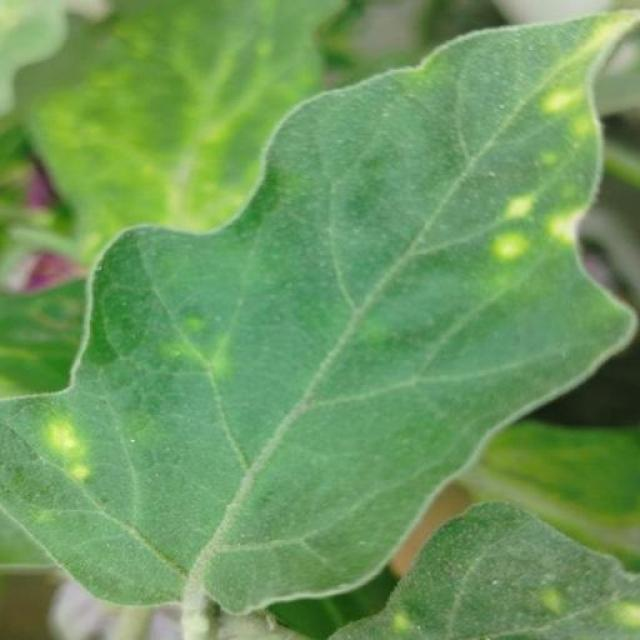leaf_spot: (26, 60, 235, 220), (117, 0, 311, 96), (480, 433, 640, 545), (215, 79, 308, 195), (29, 415, 122, 501), (8, 202, 138, 258), (155, 324, 237, 386), (534, 75, 606, 140), (568, 18, 640, 74), (393, 58, 461, 109), (544, 200, 589, 258), (380, 605, 441, 640), (600, 589, 640, 640), (486, 222, 526, 266), (531, 583, 579, 618), (40, 477, 62, 534), (499, 190, 538, 220), (526, 143, 564, 173)
